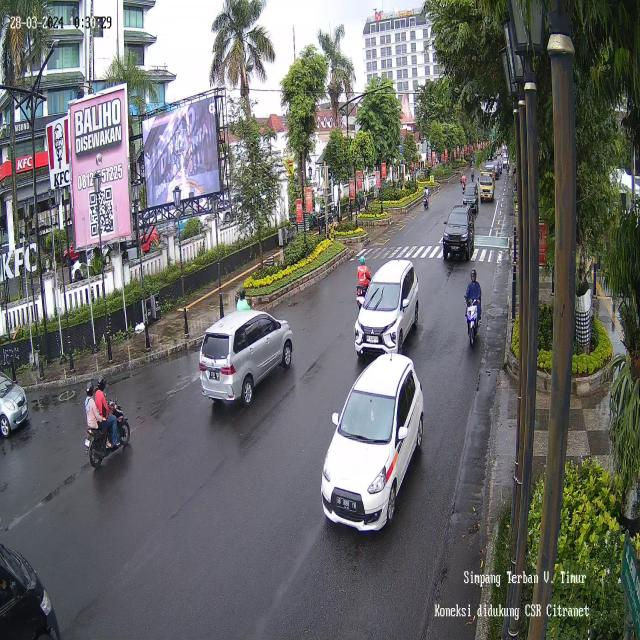car: (320, 350, 425, 536), (198, 311, 294, 408), (353, 259, 419, 357), (0, 363, 29, 444), (442, 204, 475, 266), (462, 181, 480, 214)
motorcycle: (82, 375, 132, 468), (465, 267, 482, 345), (356, 254, 371, 311), (423, 184, 428, 209), (470, 164, 475, 182), (462, 172, 466, 193)
truck: (478, 165, 494, 202)
